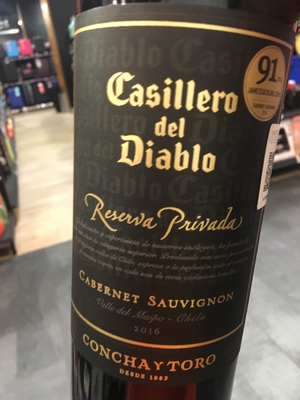casillero del diablo reserva privada cabernet sauvignon: (63, 3, 300, 378)
